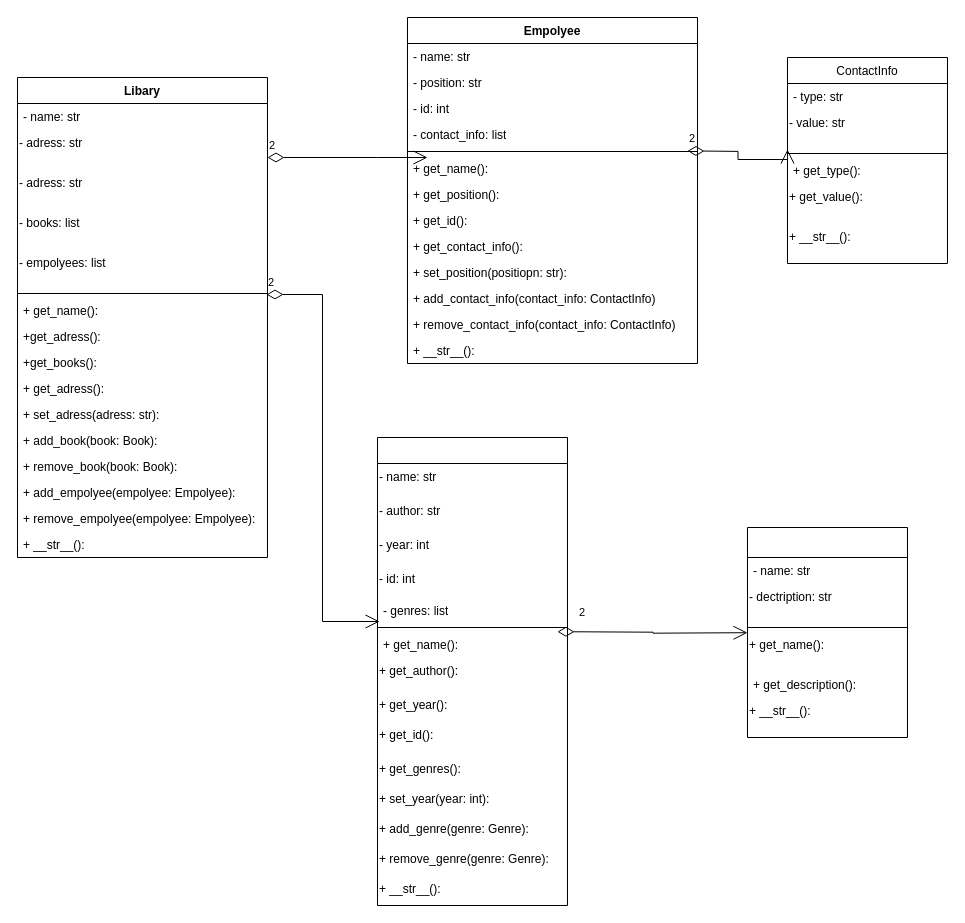
Image size: 965x923. Some labels were removed from this diagram. Here are the shapes that lost their labels. From the top down, the box of each, then its label:
(746, 526, 908, 738): Genre
(376, 436, 568, 906): Book
